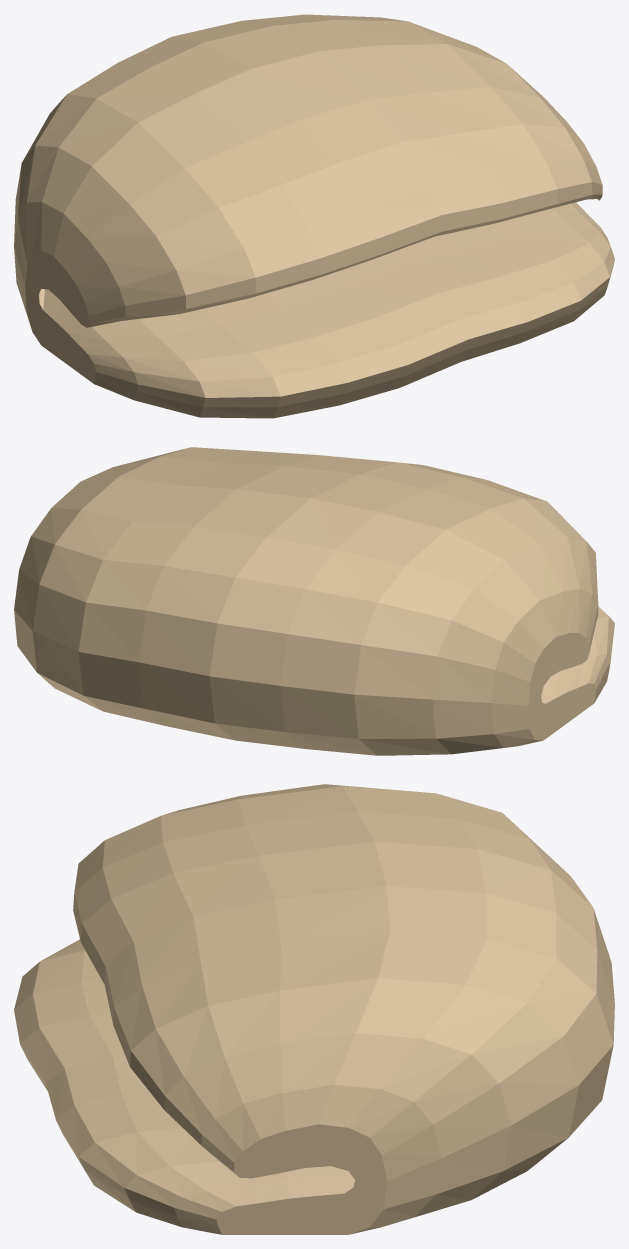
The picture shows the model from 3 angles, top to bottom: view 1: azimuth 30°, elevation 25°; view 2: azimuth 150°, elevation 25°; view 3: azimuth 270°, elevation 25°; orthographic projection. The views are drawn at different scales.
Visible parts, largest first — view 1: Continuous_ThickFoldedDoughBody; view 2: Continuous_ThickFoldedDoughBody; view 3: Continuous_ThickFoldedDoughBody.
Boxes of the visible parts, bbox=[...] form: Continuous_ThickFoldedDoughBody: bbox=[14, 14, 614, 418]; Continuous_ThickFoldedDoughBody: bbox=[14, 447, 614, 755]; Continuous_ThickFoldedDoughBody: bbox=[14, 784, 614, 1234].
Bounding box in the file's own units: 0.57 × 0.2213 × 0.5133.
